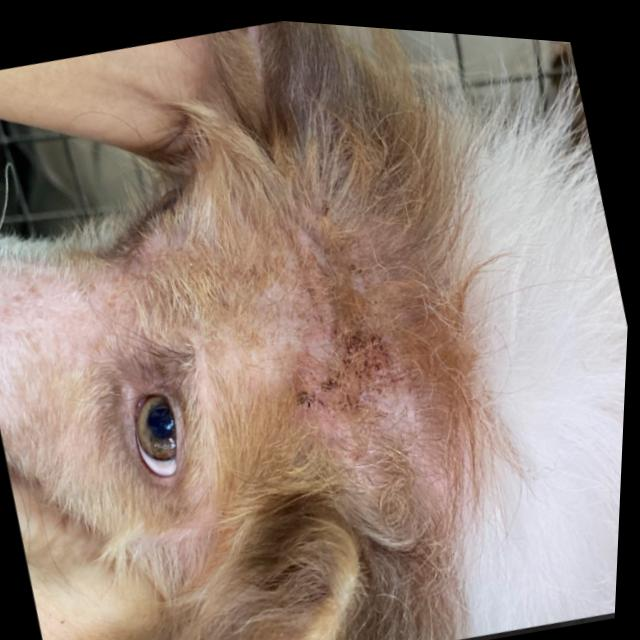demodicosis: (223, 132, 450, 500)
